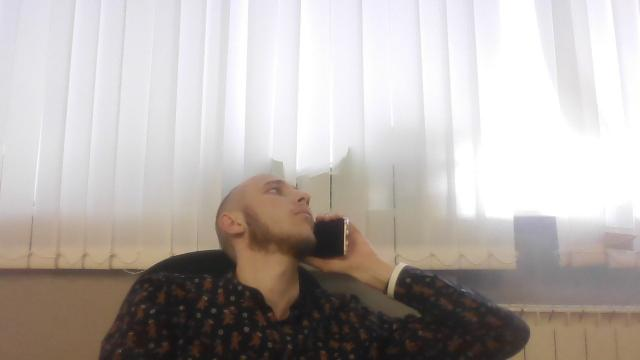Phone: (302, 211, 350, 261)
